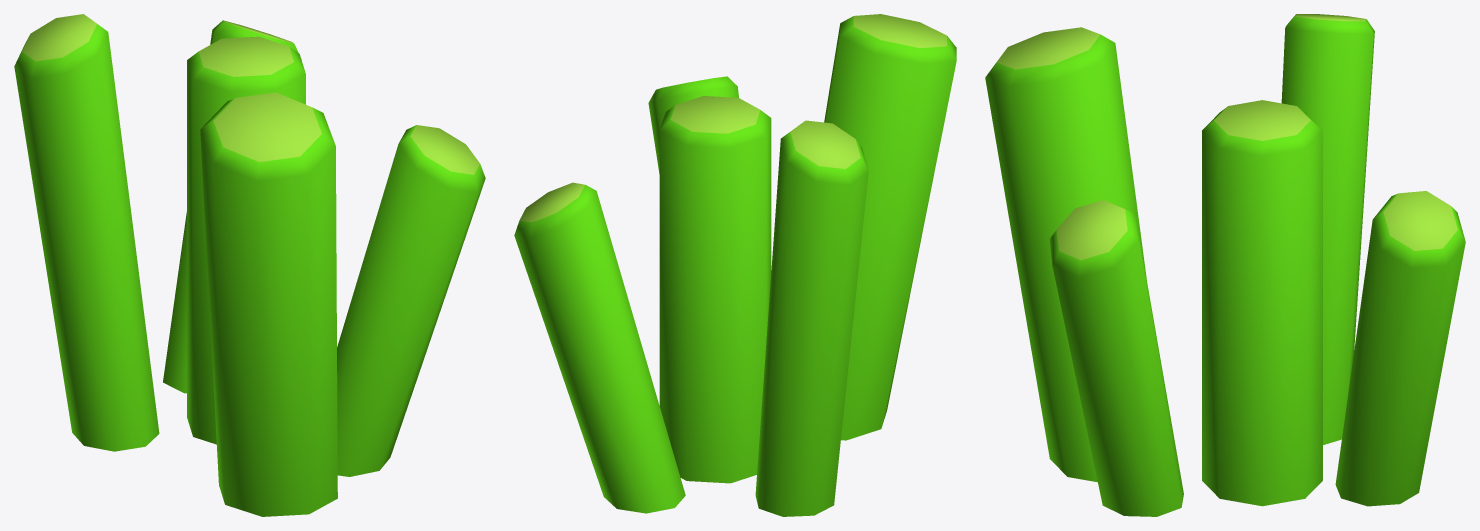
Rendered from Grass 1.fbx.
3 renders of one model, left to right at view 1: azimuth 30°, elevation 25°; view 2: azimuth 150°, elevation 25°; view 3: azimuth 270°, elevation 25°, orthographic. The views are drawn at different scales.
Visible parts, largest first — view 1: Grass 1; view 2: Grass 1; view 3: Grass 1.
Boxes of the visible parts, x1,y1,x2,y2 form: Grass 1: (14,14,485,516); Grass 1: (514,14,956,516); Grass 1: (985,14,1465,516).
Size of the model in its own units: 0.1921 by 0.2245 by 0.2428.
